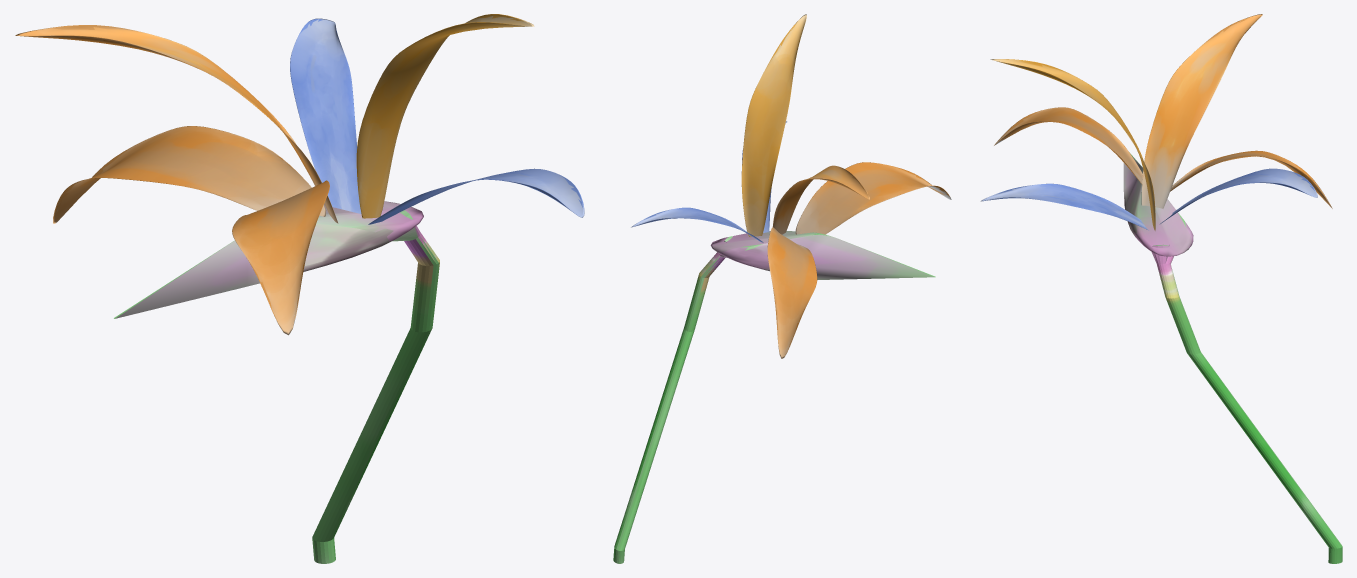
The model's file is 天堂鳥2.fbx.
The picture shows the model from 3 angles, left to right: view 1: azimuth 30°, elevation 25°; view 2: azimuth 150°, elevation 25°; view 3: azimuth 270°, elevation 25°; orthographic projection. The views are drawn at different scales.
Parts seen in each view (by area): view 1: 花頭, 葉子2, 葉子3, 葉子4, 葉子6, 葉子1, 葉子007; view 2: 花頭, 葉子4, 葉子6, 葉子2, 葉子1, 葉子3; view 3: 花頭, 葉子1, 葉子007, 葉子6, 葉子4, 葉子3, 葉子2.
Boxes of the visible parts, box(x1,y1,x2,y2) form: 花頭: box(114, 201, 439, 563); 葉子2: box(53, 126, 326, 223); 葉子3: box(290, 18, 361, 214); 葉子4: box(356, 14, 534, 218); 葉子6: box(232, 180, 329, 335); 葉子1: box(15, 25, 338, 223); 葉子007: box(368, 168, 584, 224); 花頭: box(613, 231, 935, 563); 葉子4: box(741, 14, 806, 236); 葉子6: box(795, 162, 951, 234); 葉子2: box(767, 227, 817, 358); 葉子1: box(772, 165, 870, 234); 葉子3: box(631, 207, 763, 242); 花頭: box(1123, 152, 1342, 563); 葉子1: box(1141, 14, 1262, 208); 葉子007: box(980, 183, 1148, 230); 葉子6: box(994, 107, 1142, 184); 葉子4: box(990, 59, 1155, 230); 葉子3: box(1160, 168, 1317, 223); 葉子2: box(1170, 150, 1332, 208).
Bounding box in the file's own units: 89.38 × 166 × 112.
5 materials, 5 textured.
